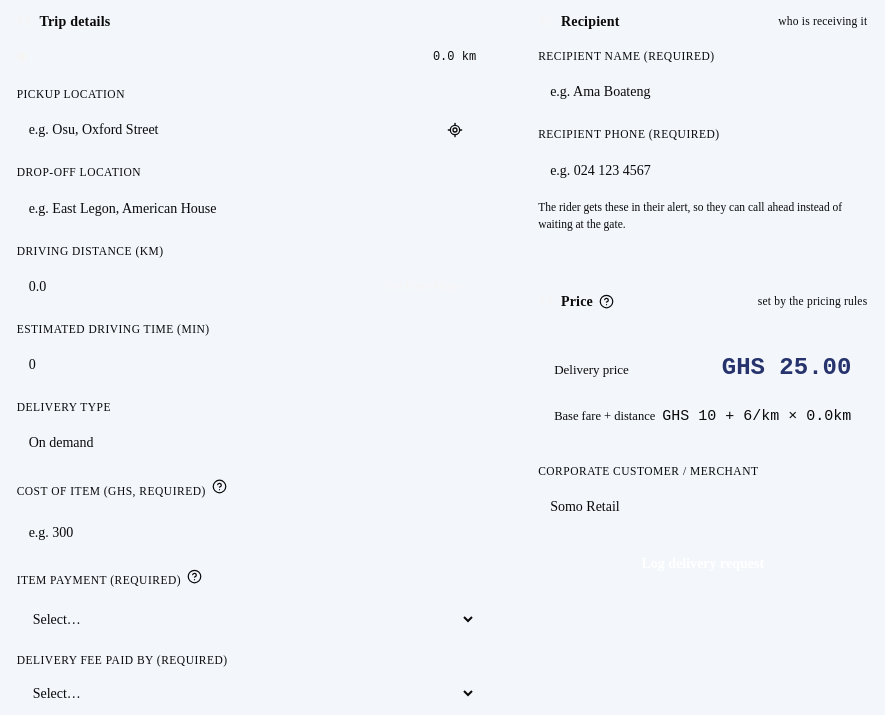
Test: pickup location button › falls back to the Plus Code line when it is the only thing on offer
Click the button named "Use my current location" at (455, 130), box [435,110,475,149]
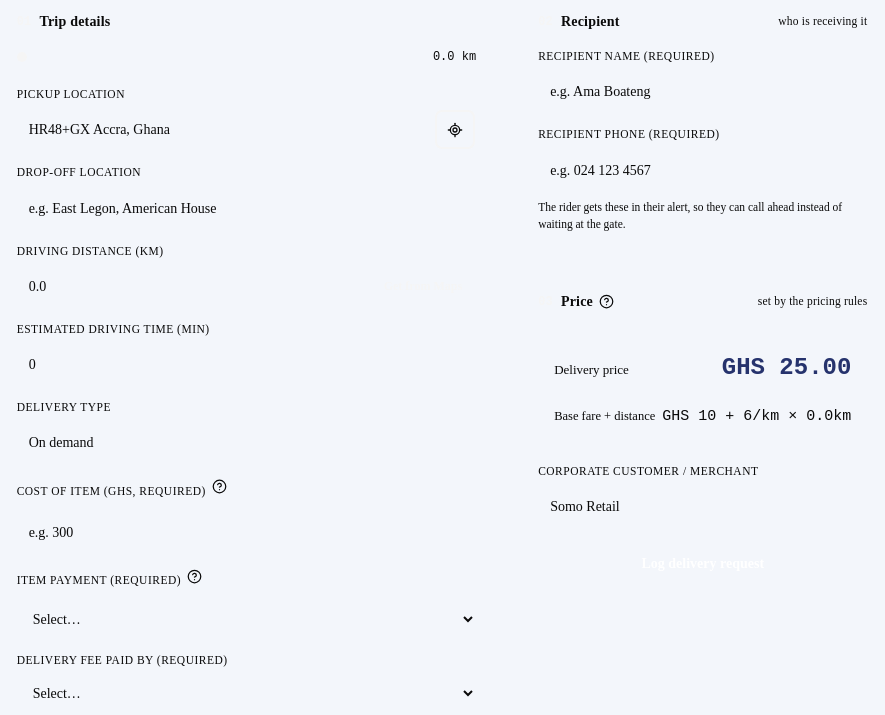
Expected: the field with placeholder "e.g. Osu, Oxford Street" holds "HR48+GX Accra, Ghana", [17,109,476,150]
